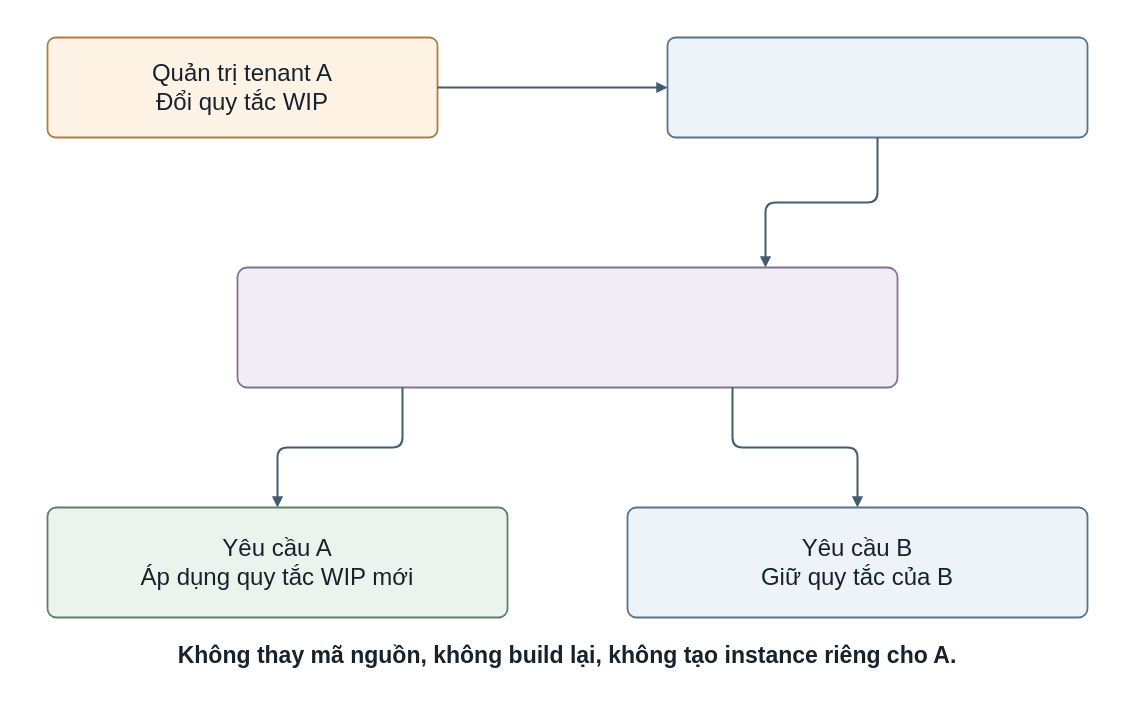
Some shapes in this 1134 by 714 pixel diagram are drawn without their labels. Here are the shapes that lost their labels. From the top down, the centre of each, then its label:
At pixel 877 87: "Kiểm tra quyền và giá trị Lưu config A, tăng version".
At pixel 567 327: "Một backend đang chạy Đọc metadata theo TenantContext".
